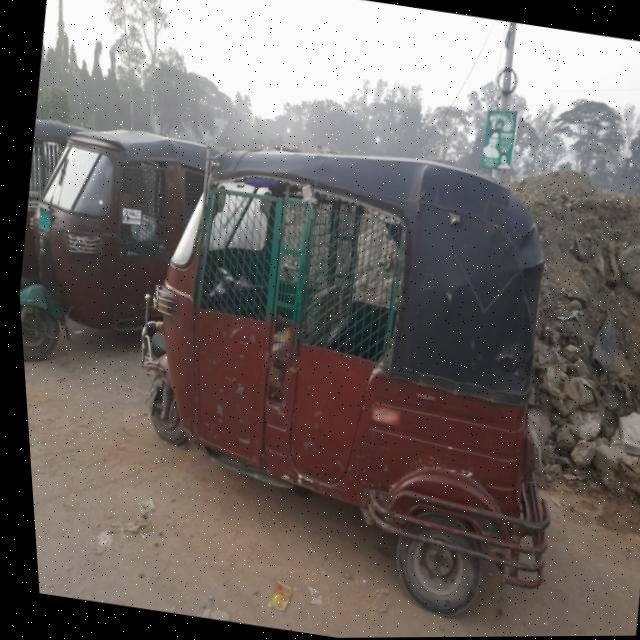cng: (107, 80, 610, 571)
